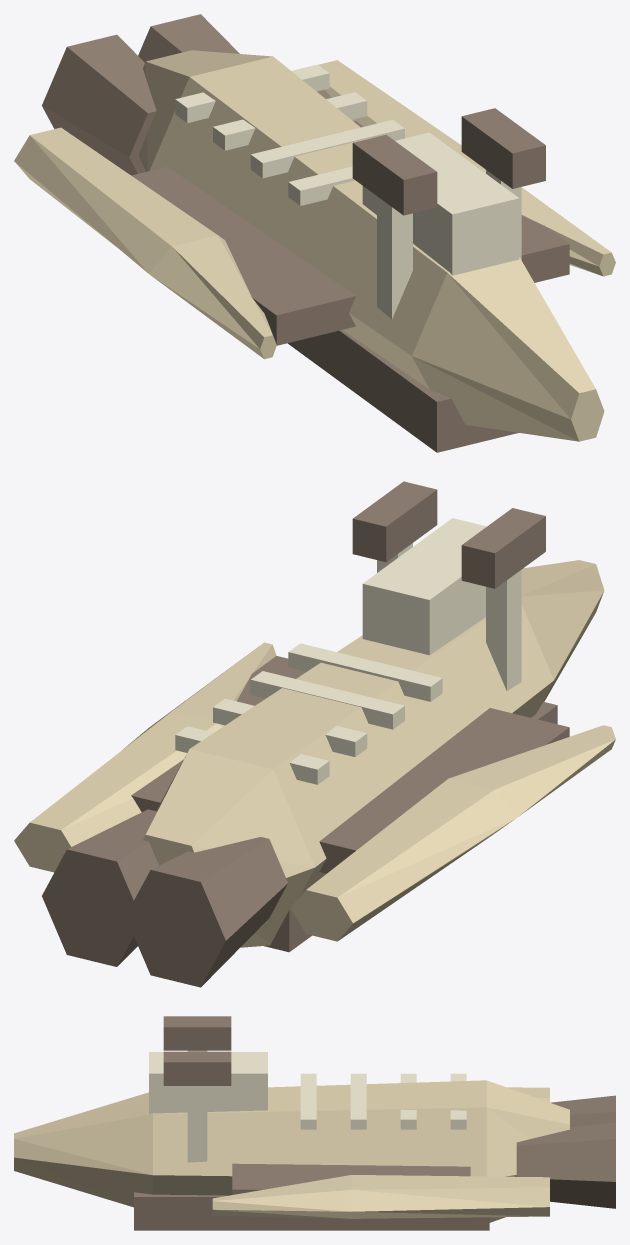
3 views of the same model, one above another, from view 1: azimuth 30°, elevation 25°; view 2: azimuth 150°, elevation 25°; view 3: azimuth 270°, elevation 25° (orthographic). The views are drawn at different scales.
Bounding box in the file's own units: 3.1 × 2.08 × 6.61.
